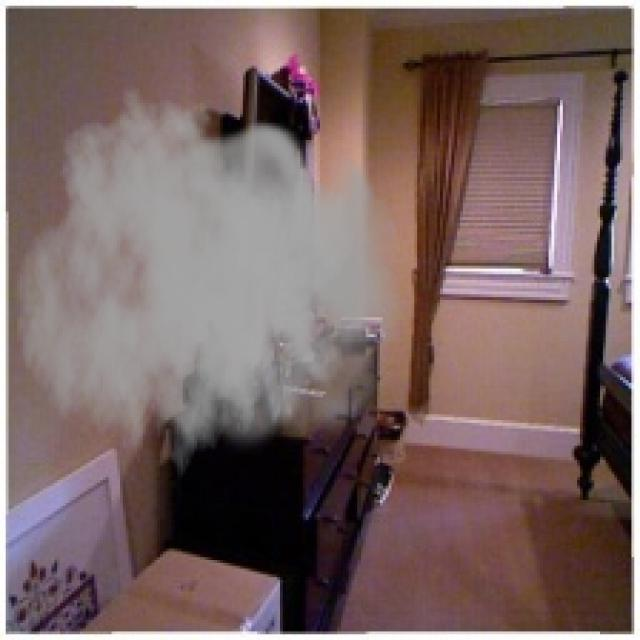smoke: (14, 86, 403, 497)
